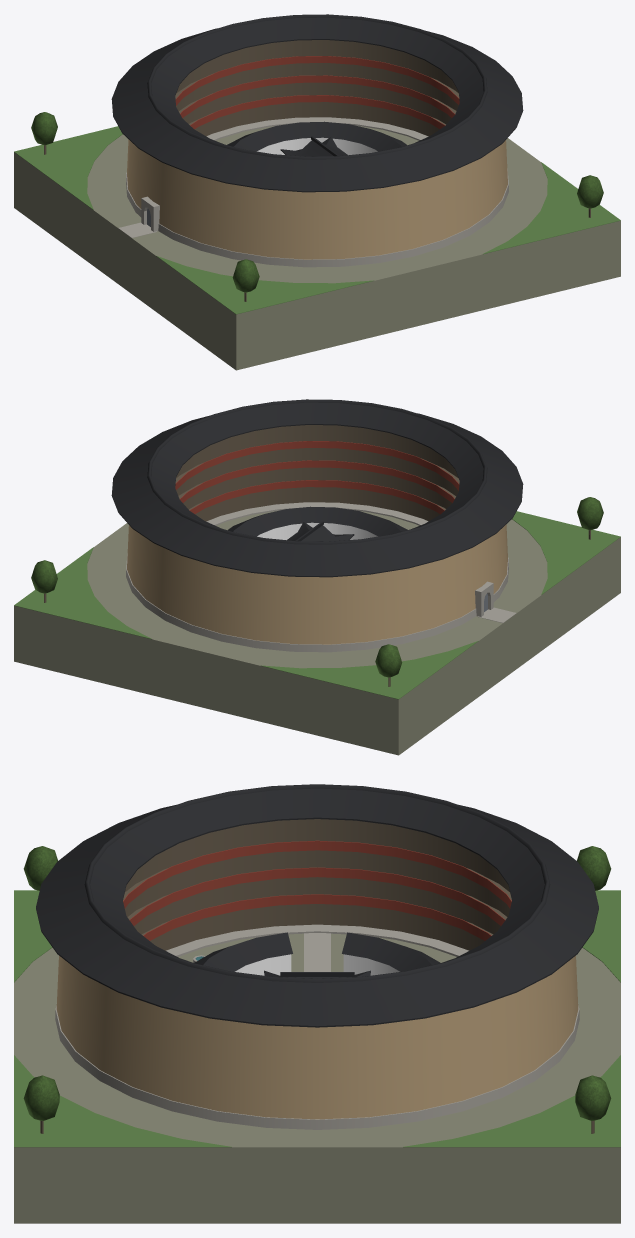
Rendered from far.fbx.
3 renders of one model, top to bottom at view 1: azimuth 30°, elevation 25°; view 2: azimuth 150°, elevation 25°; view 3: azimuth 270°, elevation 25°, orthographic. The views are drawn at different scales.
Visible parts, largest first — view 1: landmark-earthen_roundhouse/0/far; view 2: landmark-earthen_roundhouse/0/far; view 3: landmark-earthen_roundhouse/0/far.
Part boxes in pixels (x1,y1,x2,y2): landmark-earthen_roundhouse/0/far: (14,14,620,370); landmark-earthen_roundhouse/0/far: (14,399,620,755); landmark-earthen_roundhouse/0/far: (14,784,620,1223).
Size of the model in its own units: 72 by 28 by 72.
